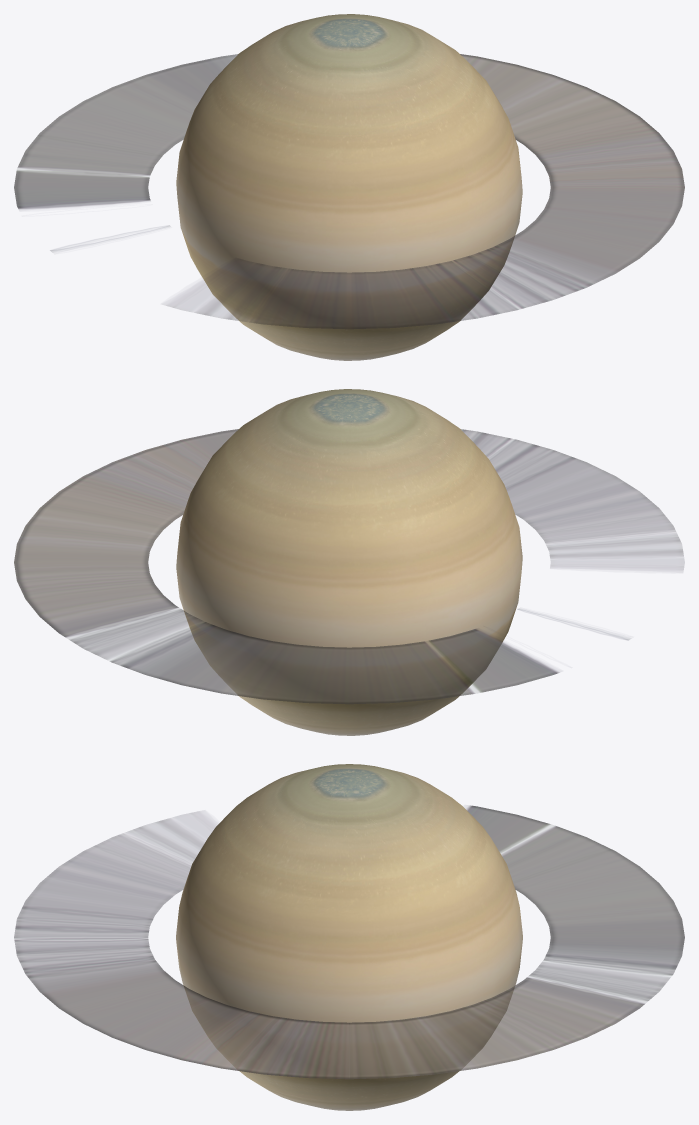
Rendered from saturn.glb.
The picture shows the model from 3 angles, top to bottom: view 1: azimuth 30°, elevation 25°; view 2: azimuth 150°, elevation 25°; view 3: azimuth 270°, elevation 25°; orthographic projection.
Parts seen in each view (by area): view 1: Saturn, Torus; view 2: Saturn, Torus; view 3: Saturn, Torus.
Part boxes in pixels (box(x1,y1,x2,y2)): Saturn: box(176, 14, 522, 360); Torus: box(14, 54, 684, 328); Saturn: box(176, 389, 522, 735); Torus: box(14, 429, 684, 704); Saturn: box(176, 764, 522, 1110); Torus: box(14, 805, 684, 1079).
Bounding box in the file's own units: 4.5 × 2.33 × 4.5.
Materials: 2 (2 with a texture image).
